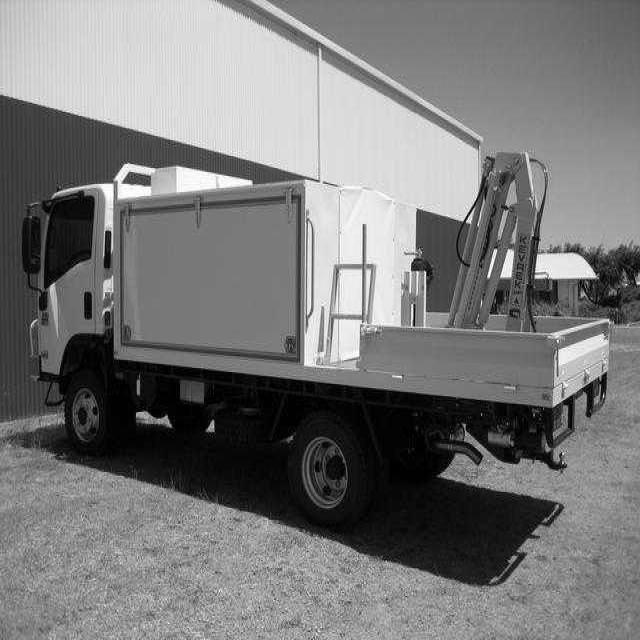Truck: (25, 160, 610, 522)
